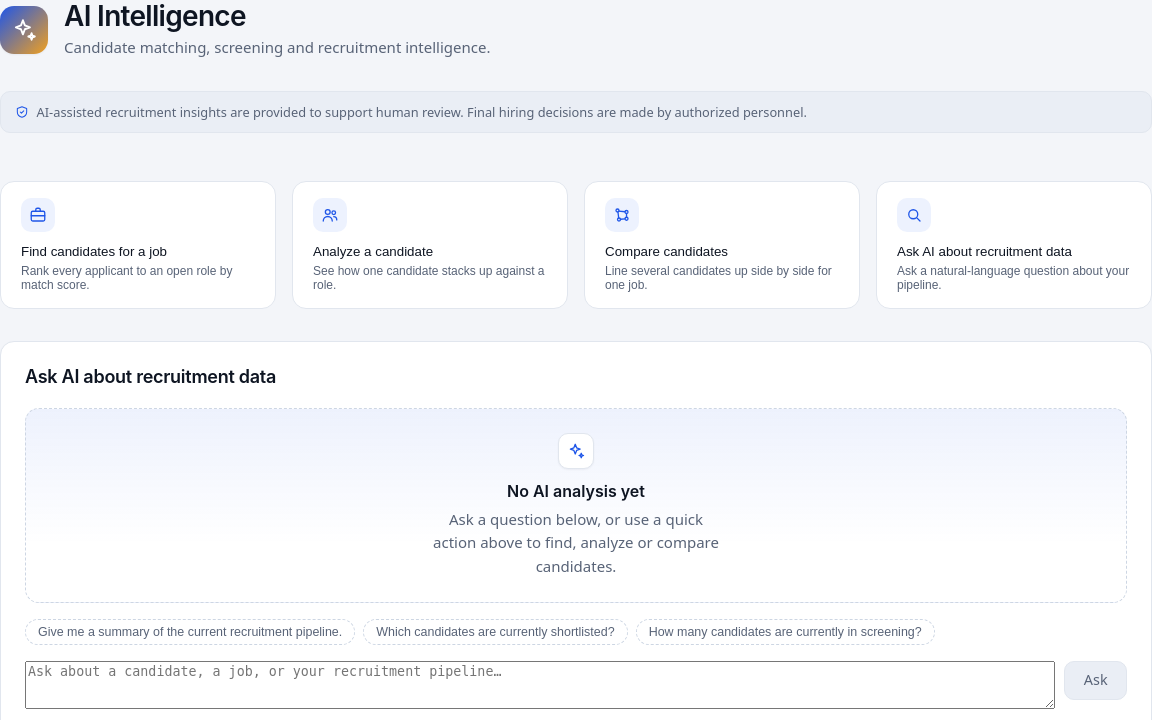
Test: AiWorkspacePage › shows a friendly error and keeps the conversation usable when the query fails
This screenshot has width=1152, height=720.
Type "How many candidates are shortlisted?" into the text box with placeholder "Ask about a candidate, a job, or your recruitment pipeline…" at (540, 684), box [25,660,1055,708]
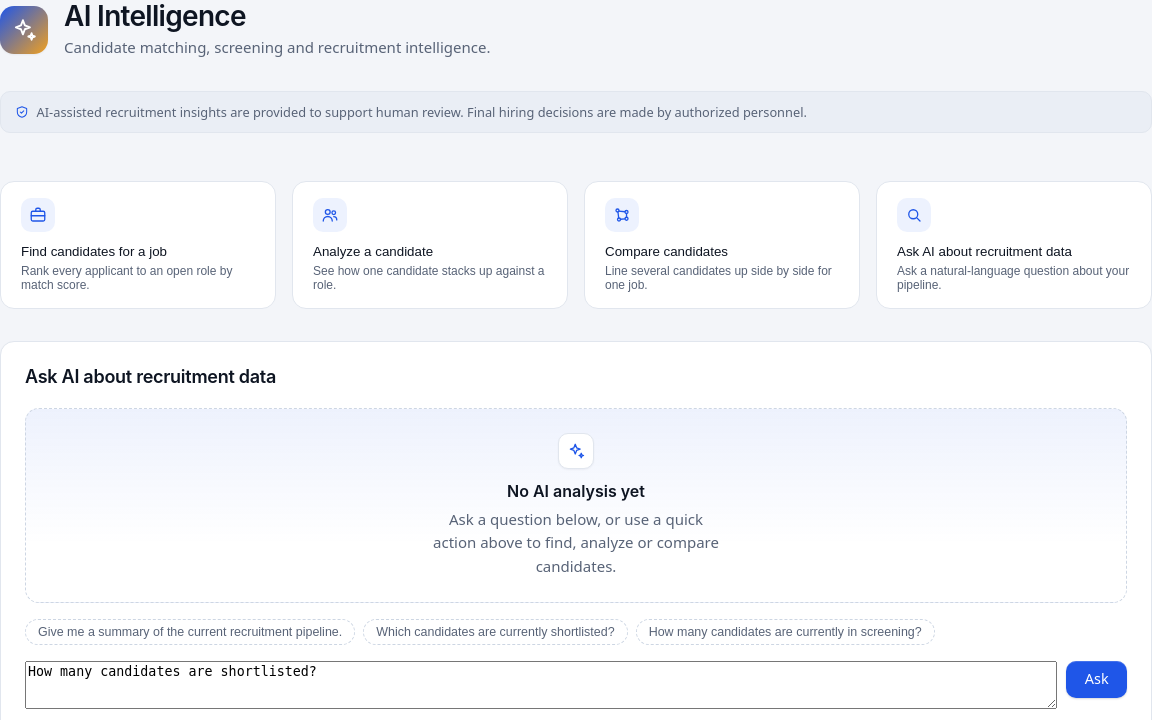
Click the button "Ask" at (1097, 679), box [1066,660,1127,698]
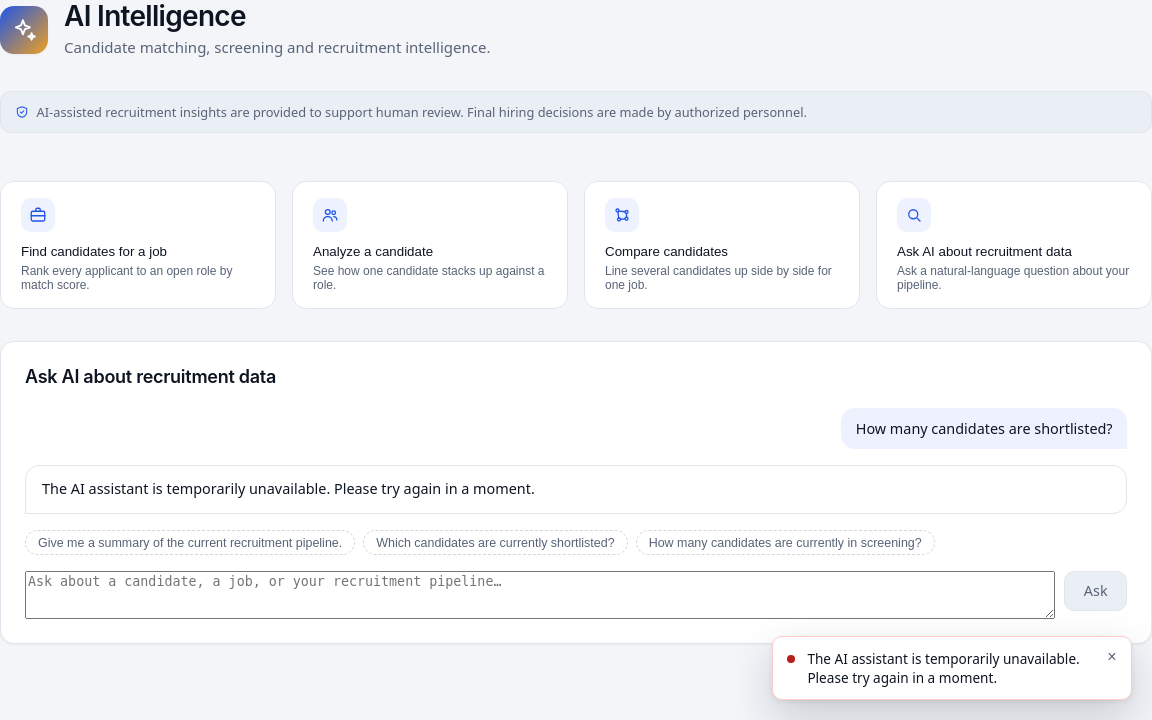
Now the text "temporarily unavailable" below "How many candidates are shortlisted?" is shown, box [42,480,535,498]
